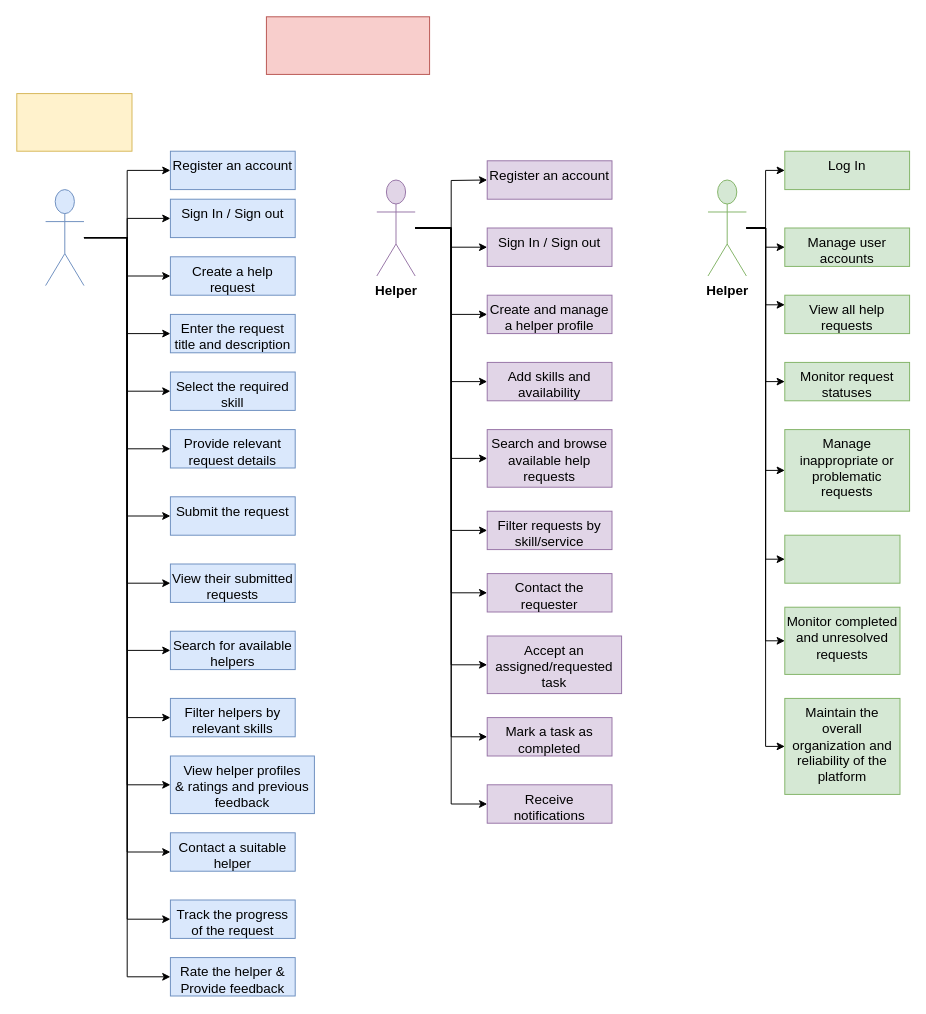
This 926x1014 diagram has some shape labels left out. Here are the shapes that lost their labels. From the top down, the box of each, then its label:
(265, 16, 430, 74): Techlarious Exam
(16, 93, 132, 151): Question 1.2
(45, 189, 84, 286): Help Seeker
(784, 534, 900, 583): Manage notifications
